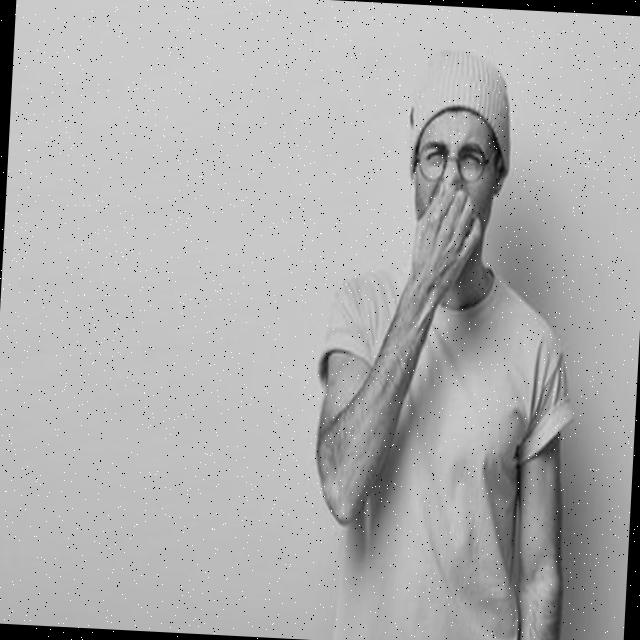Disgust: (409, 107, 499, 266)
